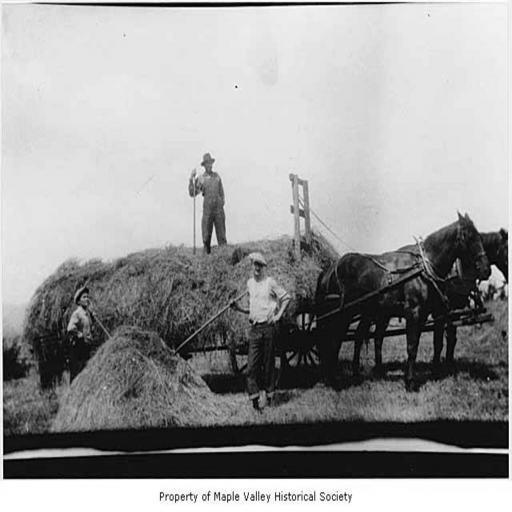horse: (314, 204, 492, 394), (352, 225, 510, 385)
